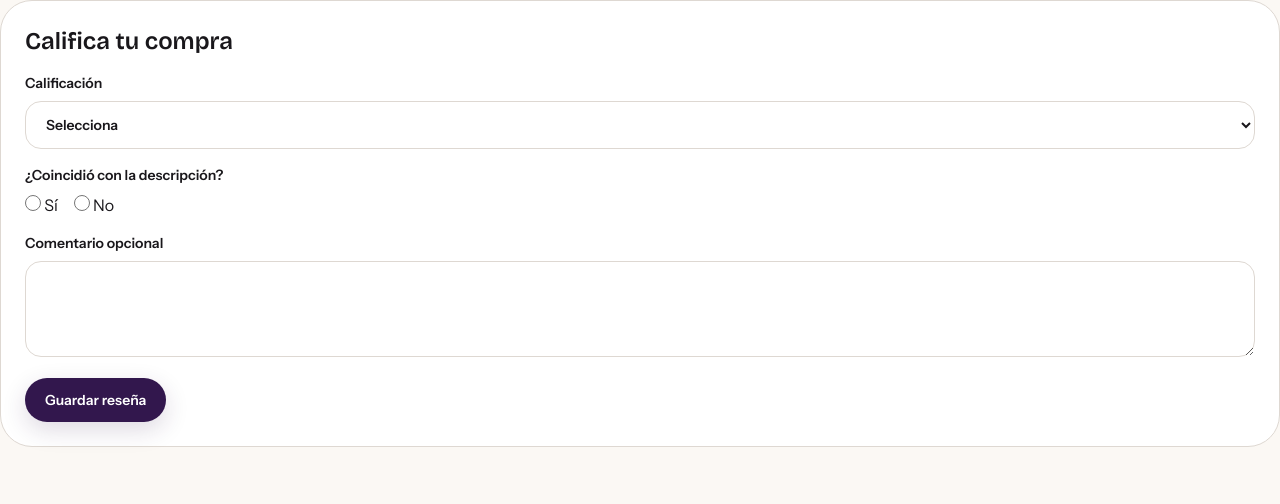
Test: choices and non-text fields › keeps a chosen radio and select on the review form
The width and height of the screenshot is (1280, 504).
Select "4 estrellas" in the dropdown labelled "Calificación" at [640, 125], box [25,101,1255,149]
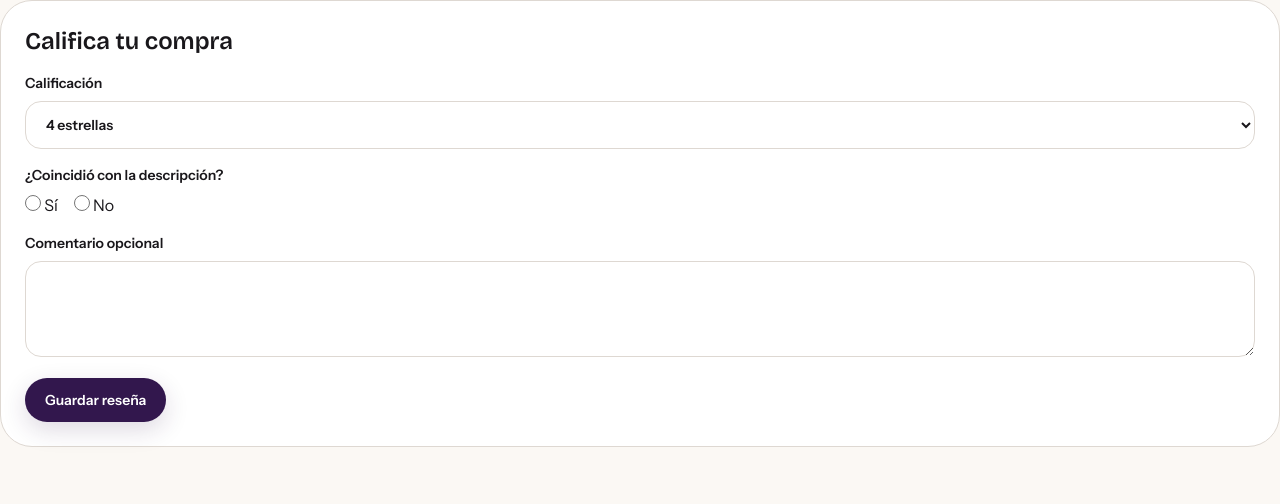
Click the radio button labelled "No" at [82, 203], box [74,195,90,211]
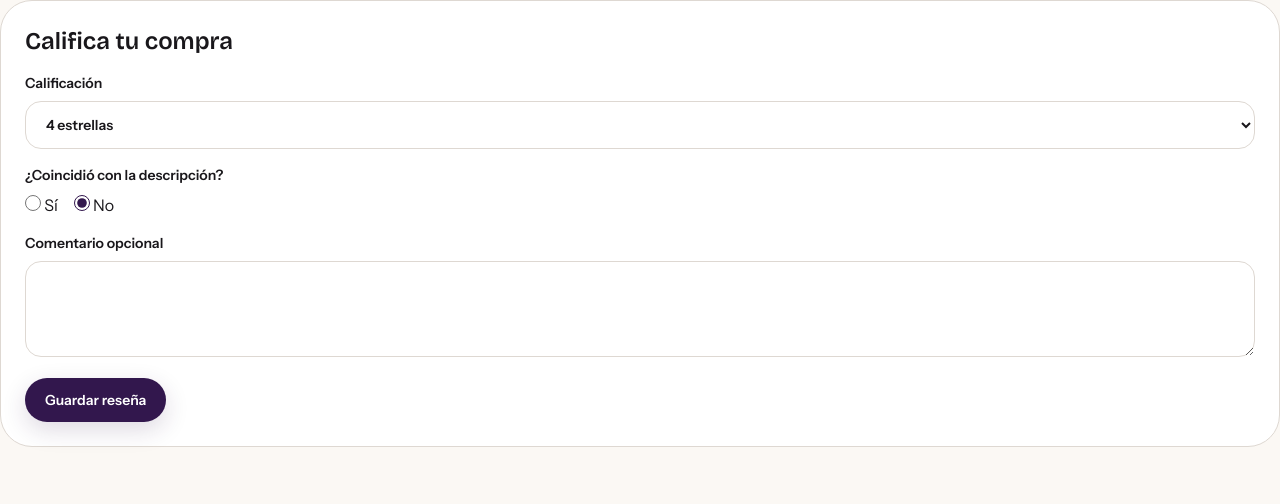
Type "Llegó tarde." into the text box labelled "Comentario opcional" at [640, 309], box [25,261,1255,357]
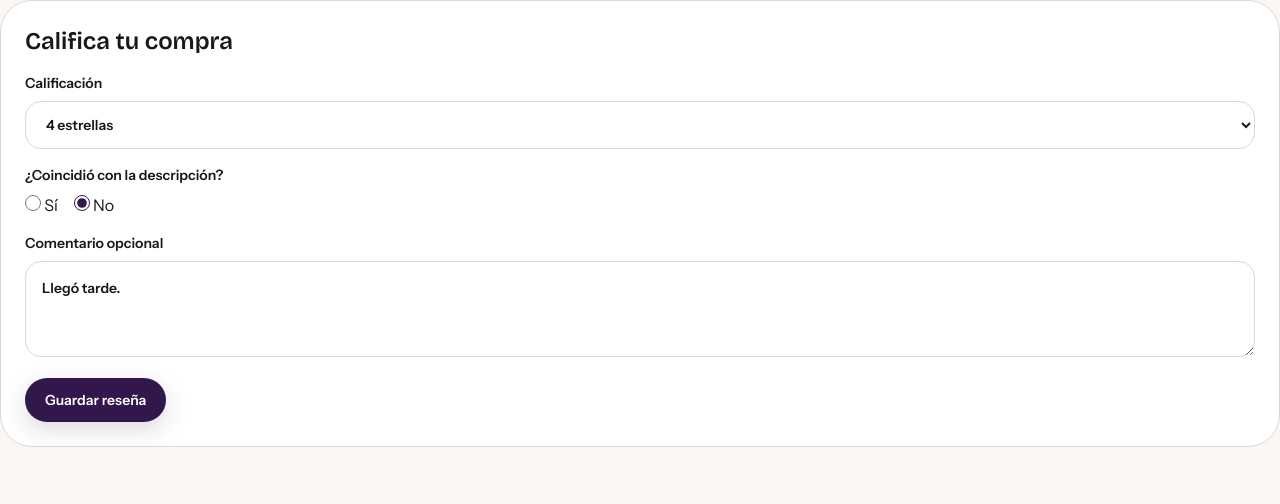
Click the button "Guardar reseña" at [96, 400], box [25,378,166,422]
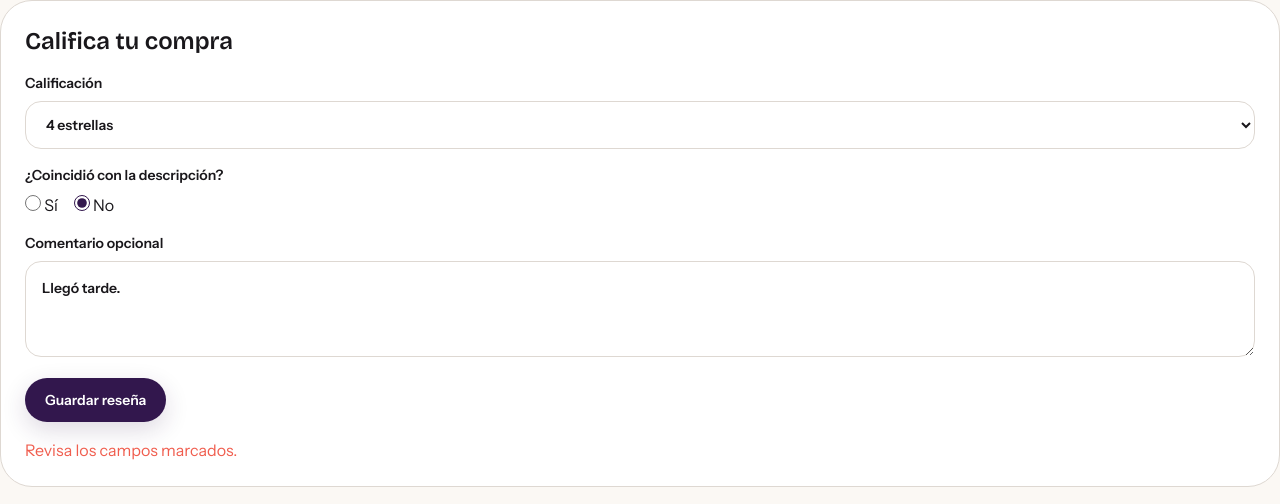
Now the radio button labelled "No" is checked, box [74,195,90,211]
Now the dropdown labelled "Calificación" shows "4 estrellas", box [25,101,1255,149]
Now the message "Revisa los campos marcados." is shown, box [25,440,237,460]
